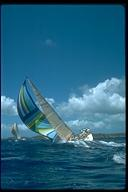sailboat: (15, 74, 96, 143), (8, 120, 24, 141)
sky: (2, 4, 124, 74)
water: (2, 144, 126, 188)
